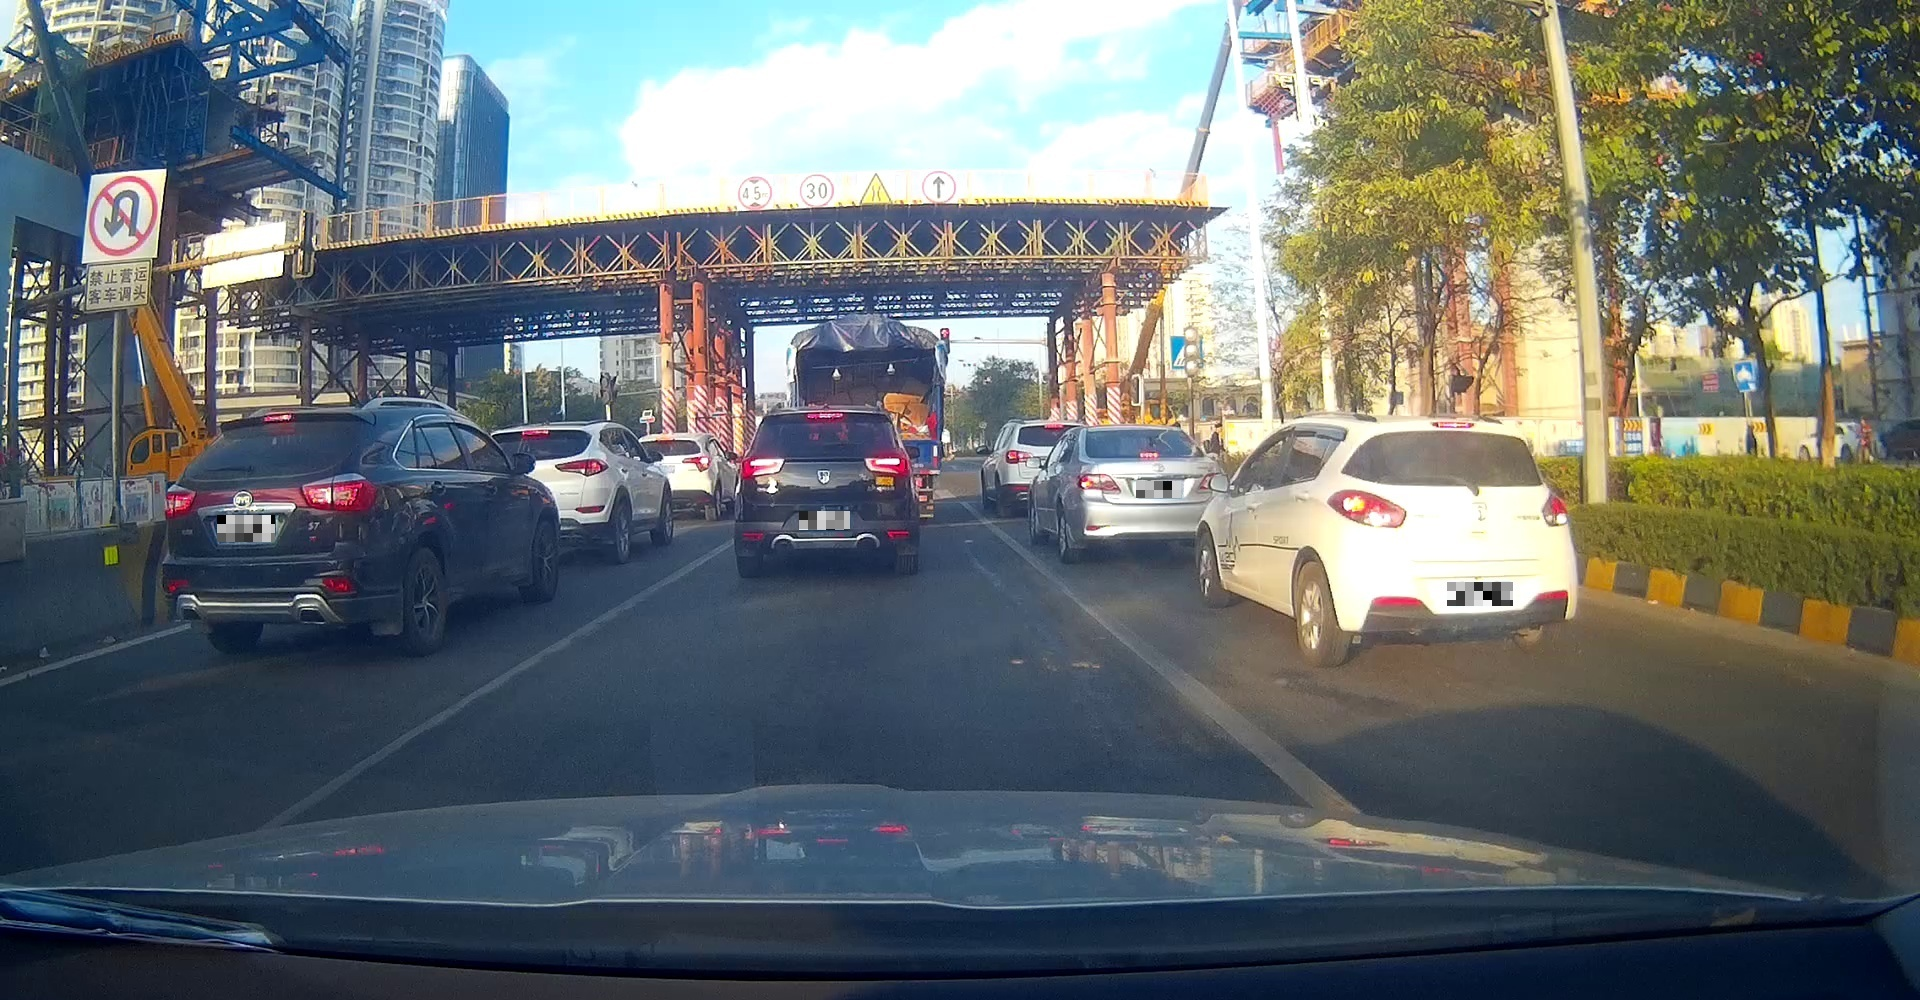L_light: (1324, 489, 1407, 527), (165, 482, 196, 518), (739, 456, 786, 477), (1077, 473, 1123, 494)
R_light: (301, 472, 378, 511), (1543, 490, 1570, 525), (863, 456, 910, 475), (1197, 471, 1224, 490)
T_light: (1432, 420, 1476, 428), (265, 412, 295, 423), (806, 412, 844, 419), (1138, 451, 1161, 458)
day-brake: (1324, 415, 1578, 668), (160, 406, 386, 654), (734, 406, 919, 574), (1074, 424, 1227, 563)
plate_1: (217, 515, 276, 542)
plate_2: (799, 511, 850, 530)
plate_3: (1137, 481, 1181, 497)
plate_4: (1448, 582, 1512, 607)
